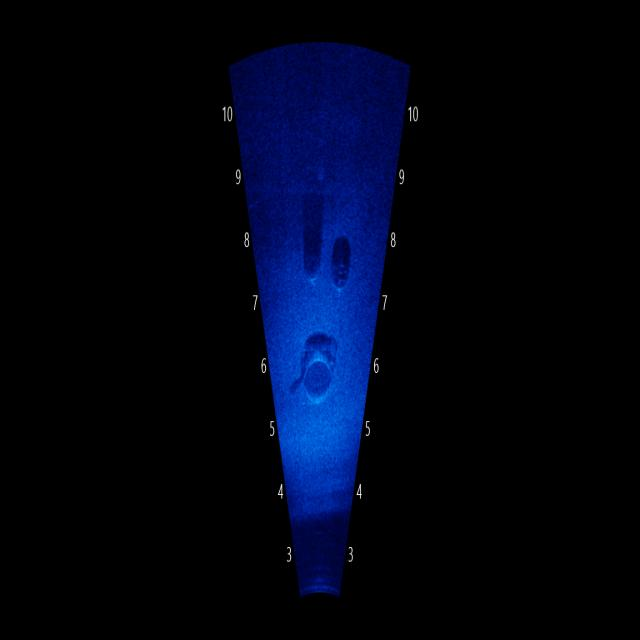circle: (295, 328, 342, 422), (322, 234, 365, 307), (298, 228, 332, 285)
